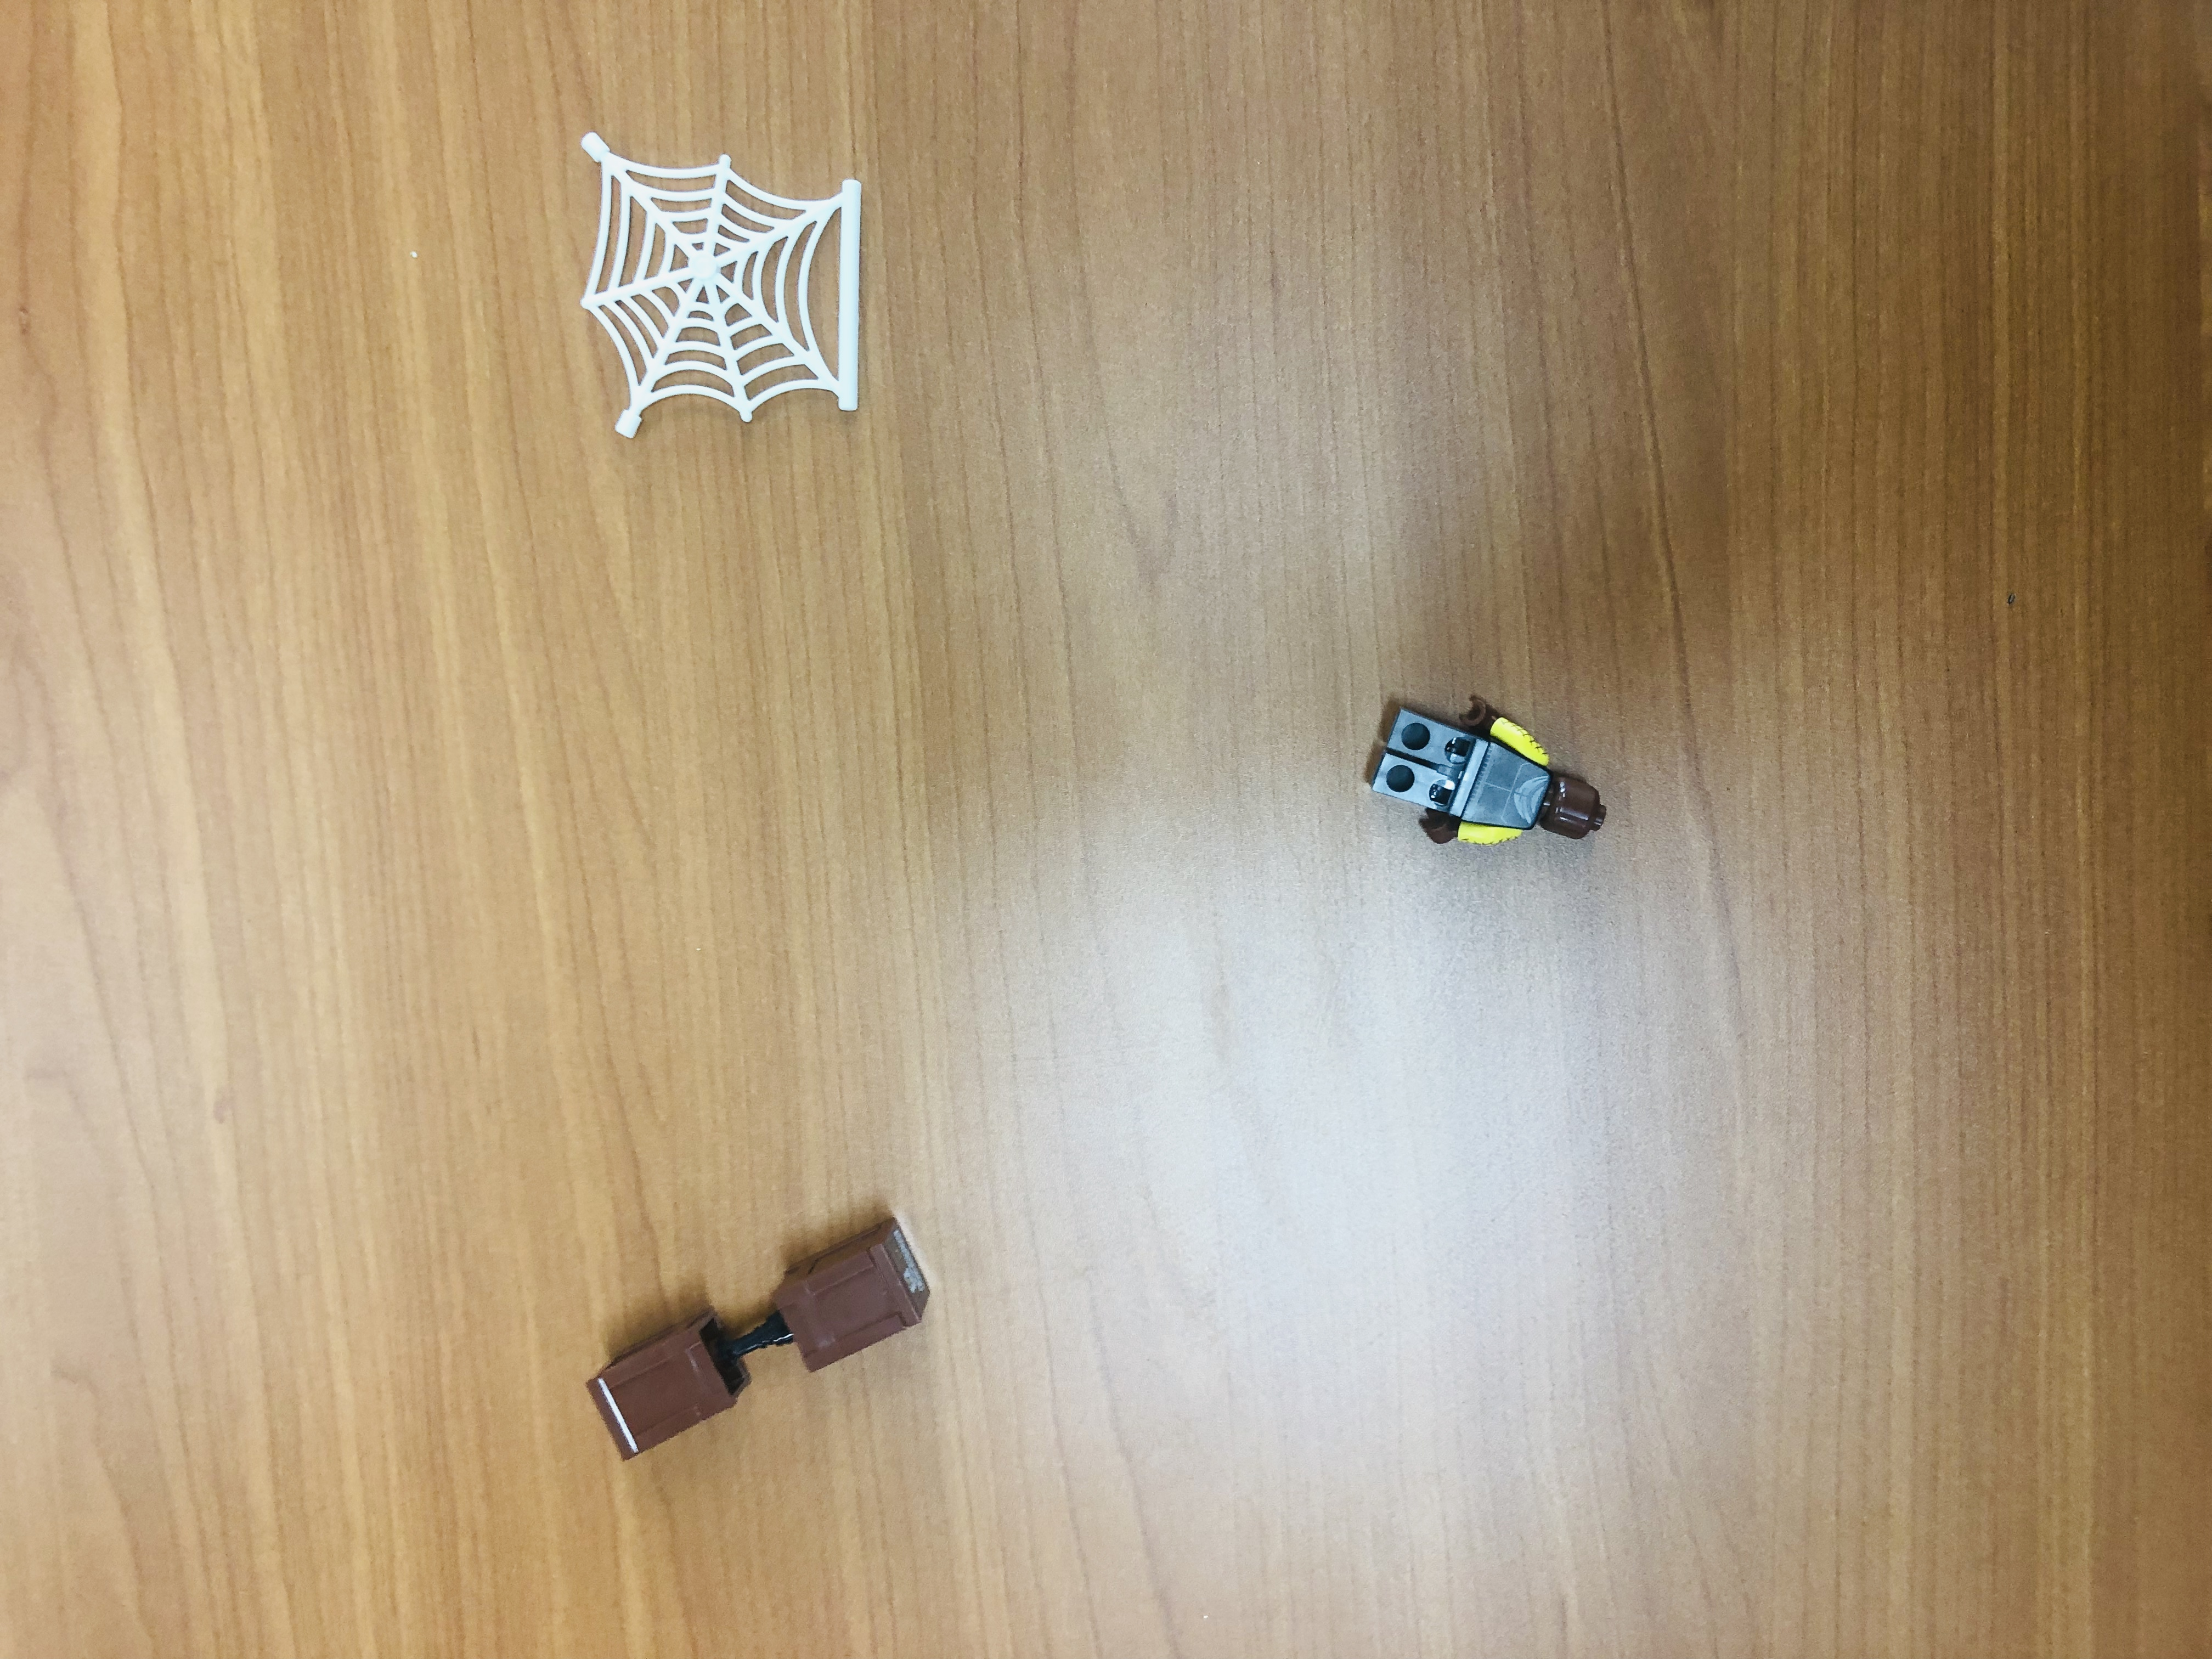box: (774, 1204, 953, 1375), (585, 1310, 755, 1461)
people: (1362, 688, 1611, 853)
web: (575, 130, 872, 444)
